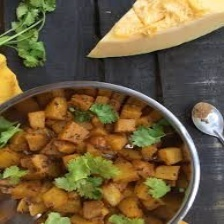sabzi: (0, 82, 198, 224)
